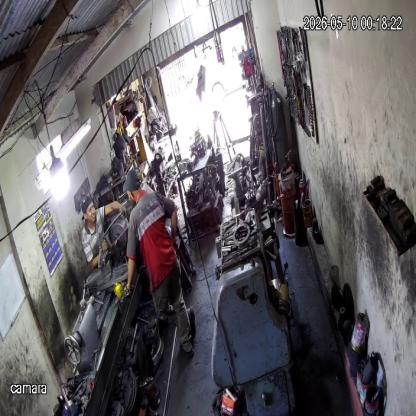sin_lentes: (86, 202, 95, 214)
